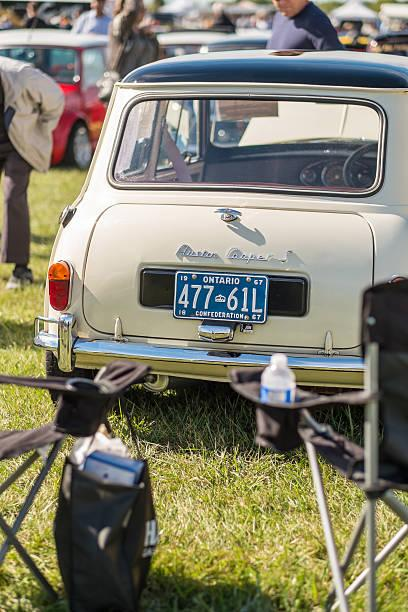licence: (172, 269, 269, 326)
